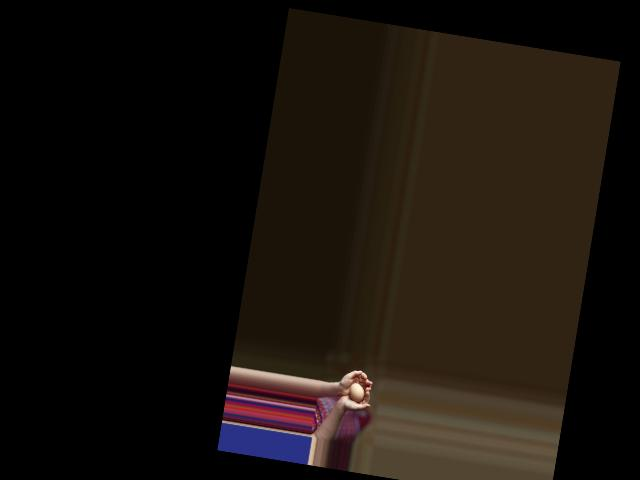egg: (348, 382, 366, 403)
